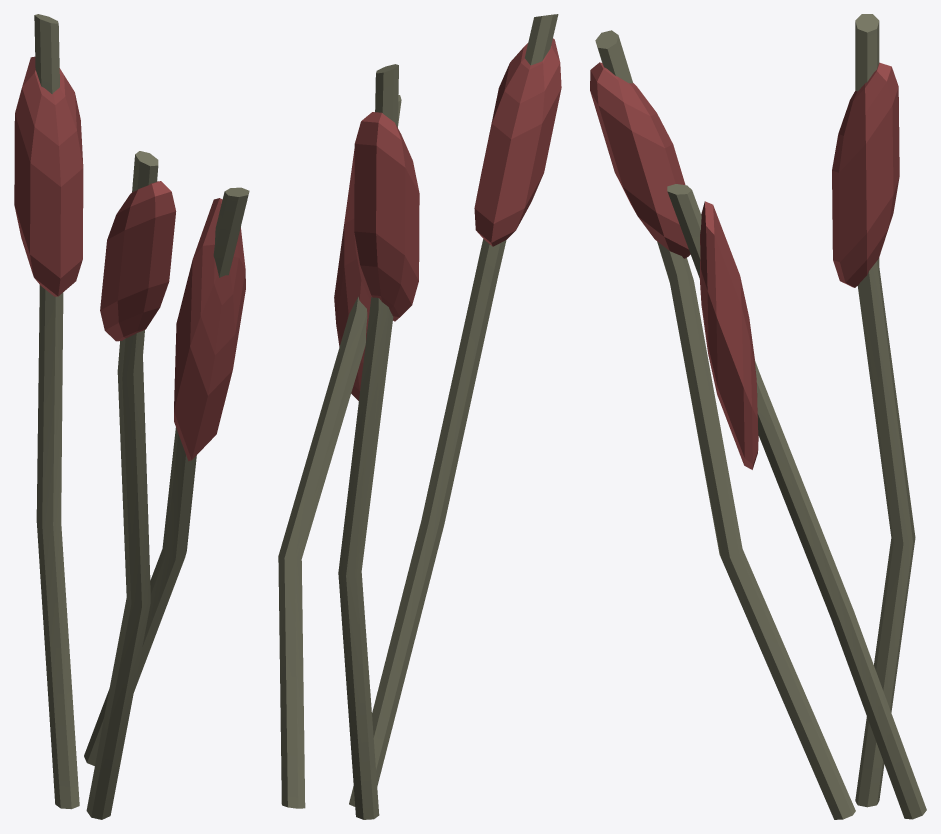
File: cat_tails.fbx
3 renders of one model, left to right at view 1: azimuth 30°, elevation 25°; view 2: azimuth 150°, elevation 25°; view 3: azimuth 270°, elevation 25°, orthographic. The views are drawn at different scales.
Visible parts, largest first — view 1: pCylinder2, pCylinder4, pSphere3, pSphere1, pSphere2, pCylinder3; view 2: pCylinder2, pCylinder4, pCylinder3, pSphere3, pSphere2, pSphere1; view 3: pCylinder4, pCylinder2, pCylinder3, pSphere3, pSphere2, pSphere1.
Part boxes in pixels (bbox=[...]): pCylinder2: bbox=[34, 14, 79, 809]; pCylinder4: bbox=[86, 151, 158, 819]; pSphere3: bbox=[14, 56, 83, 296]; pSphere1: bbox=[174, 198, 245, 461]; pSphere2: bbox=[100, 181, 176, 341]; pCylinder3: bbox=[84, 187, 249, 765]; pCylinder2: bbox=[338, 64, 398, 819]; pCylinder4: bbox=[349, 14, 558, 806]; pCylinder3: bbox=[278, 95, 401, 808]; pSphere3: bbox=[354, 112, 419, 321]; pSphere2: bbox=[474, 38, 561, 246]; pSphere1: bbox=[334, 149, 370, 400]; pCylinder4: bbox=[595, 30, 855, 819]; pCylinder2: bbox=[855, 14, 915, 807]; pCylinder3: bbox=[667, 184, 926, 819]; pSphere3: bbox=[832, 62, 899, 287]; pSphere2: bbox=[590, 62, 690, 258]; pSphere1: bbox=[699, 201, 758, 469].
Bounding box in the file's own units: 0.6607 × 2.83 × 1.11.
